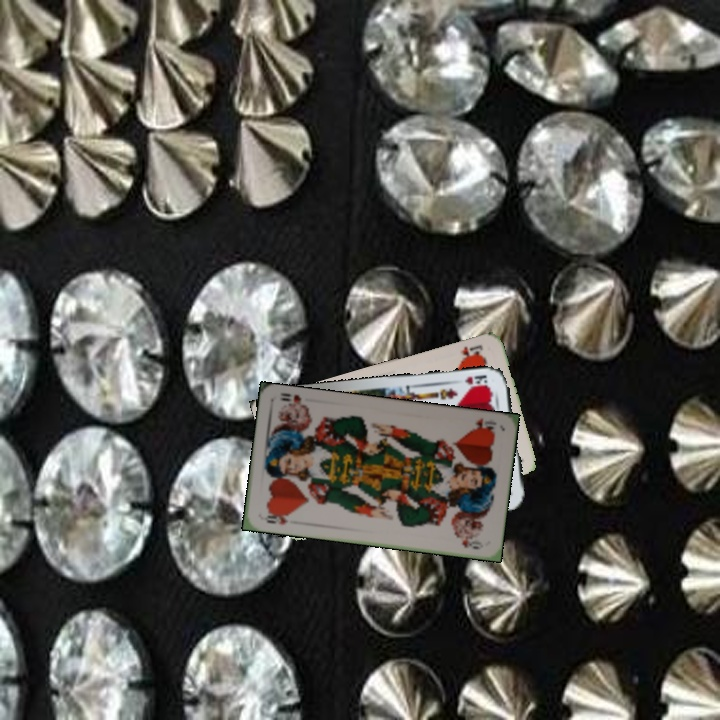HK: (461, 371, 490, 387)
HO: (455, 341, 485, 363), (468, 414, 499, 435), (263, 508, 291, 527)
